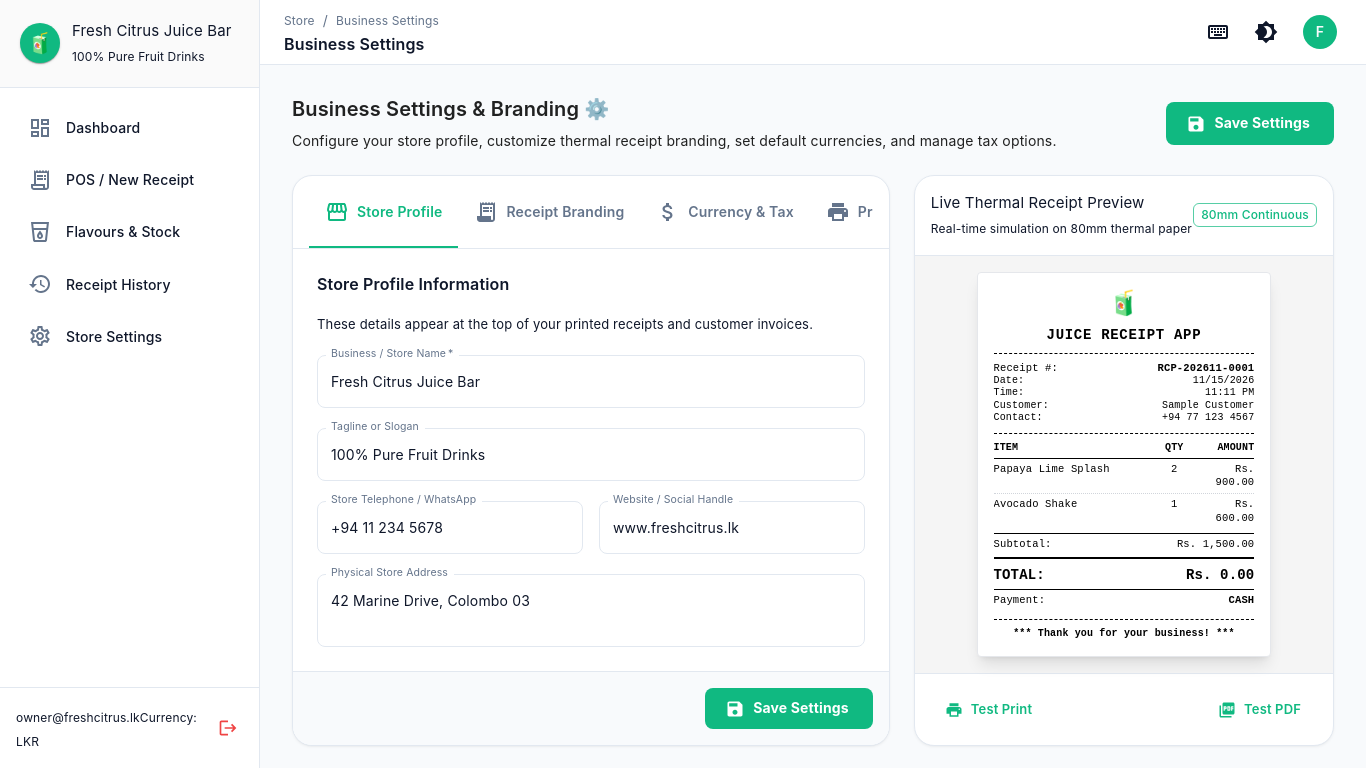
Test case: Settings Page UI › switches to Receipt Branding tab and displays branding controls
Step 1. Click the tab "Receipt Branding" → (549, 212), box [458, 176, 640, 248]
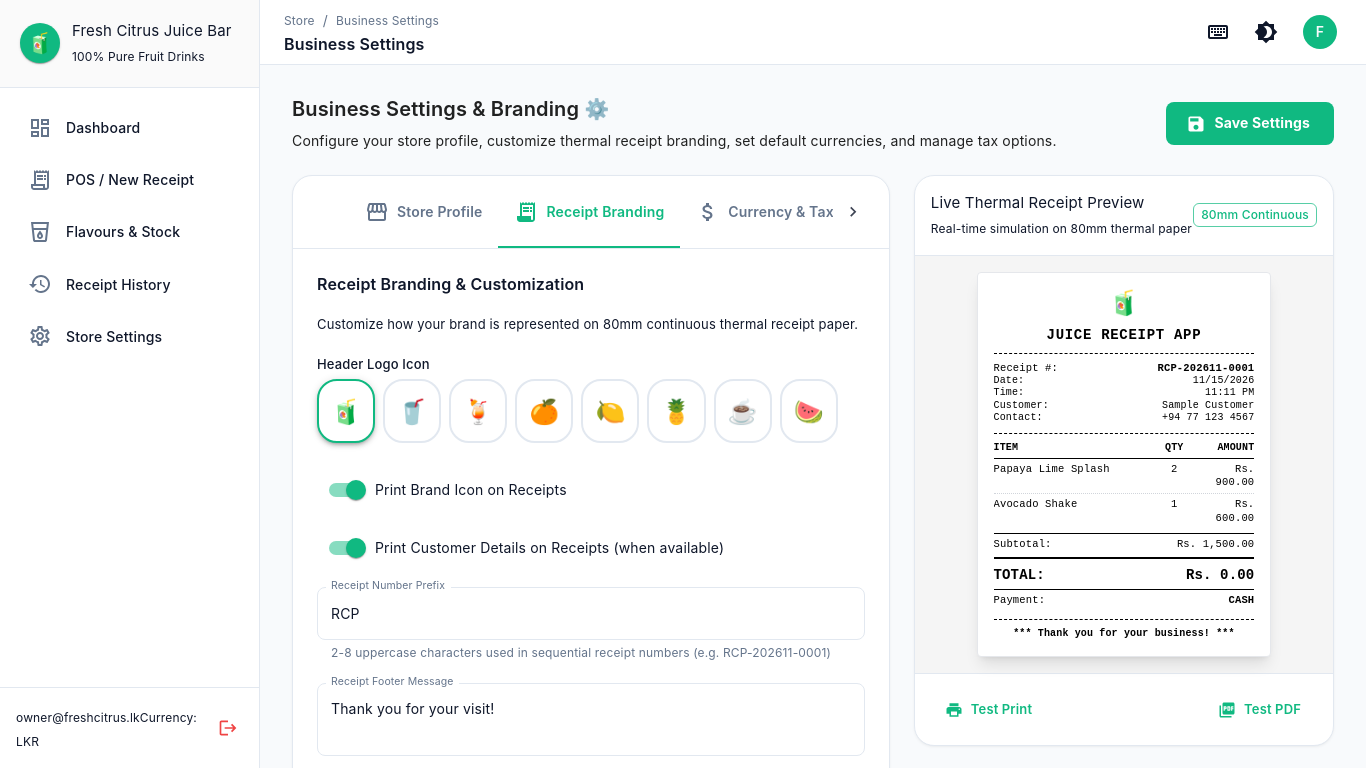
Expected: the heading "Header Logo Icon" is shown, [317, 356, 430, 372]
Expected: the switch named "Show Logo on Receipts" is checked, [329, 480, 567, 500]
Expected: the switch named "Show Customer Details" is checked, [329, 538, 724, 558]
